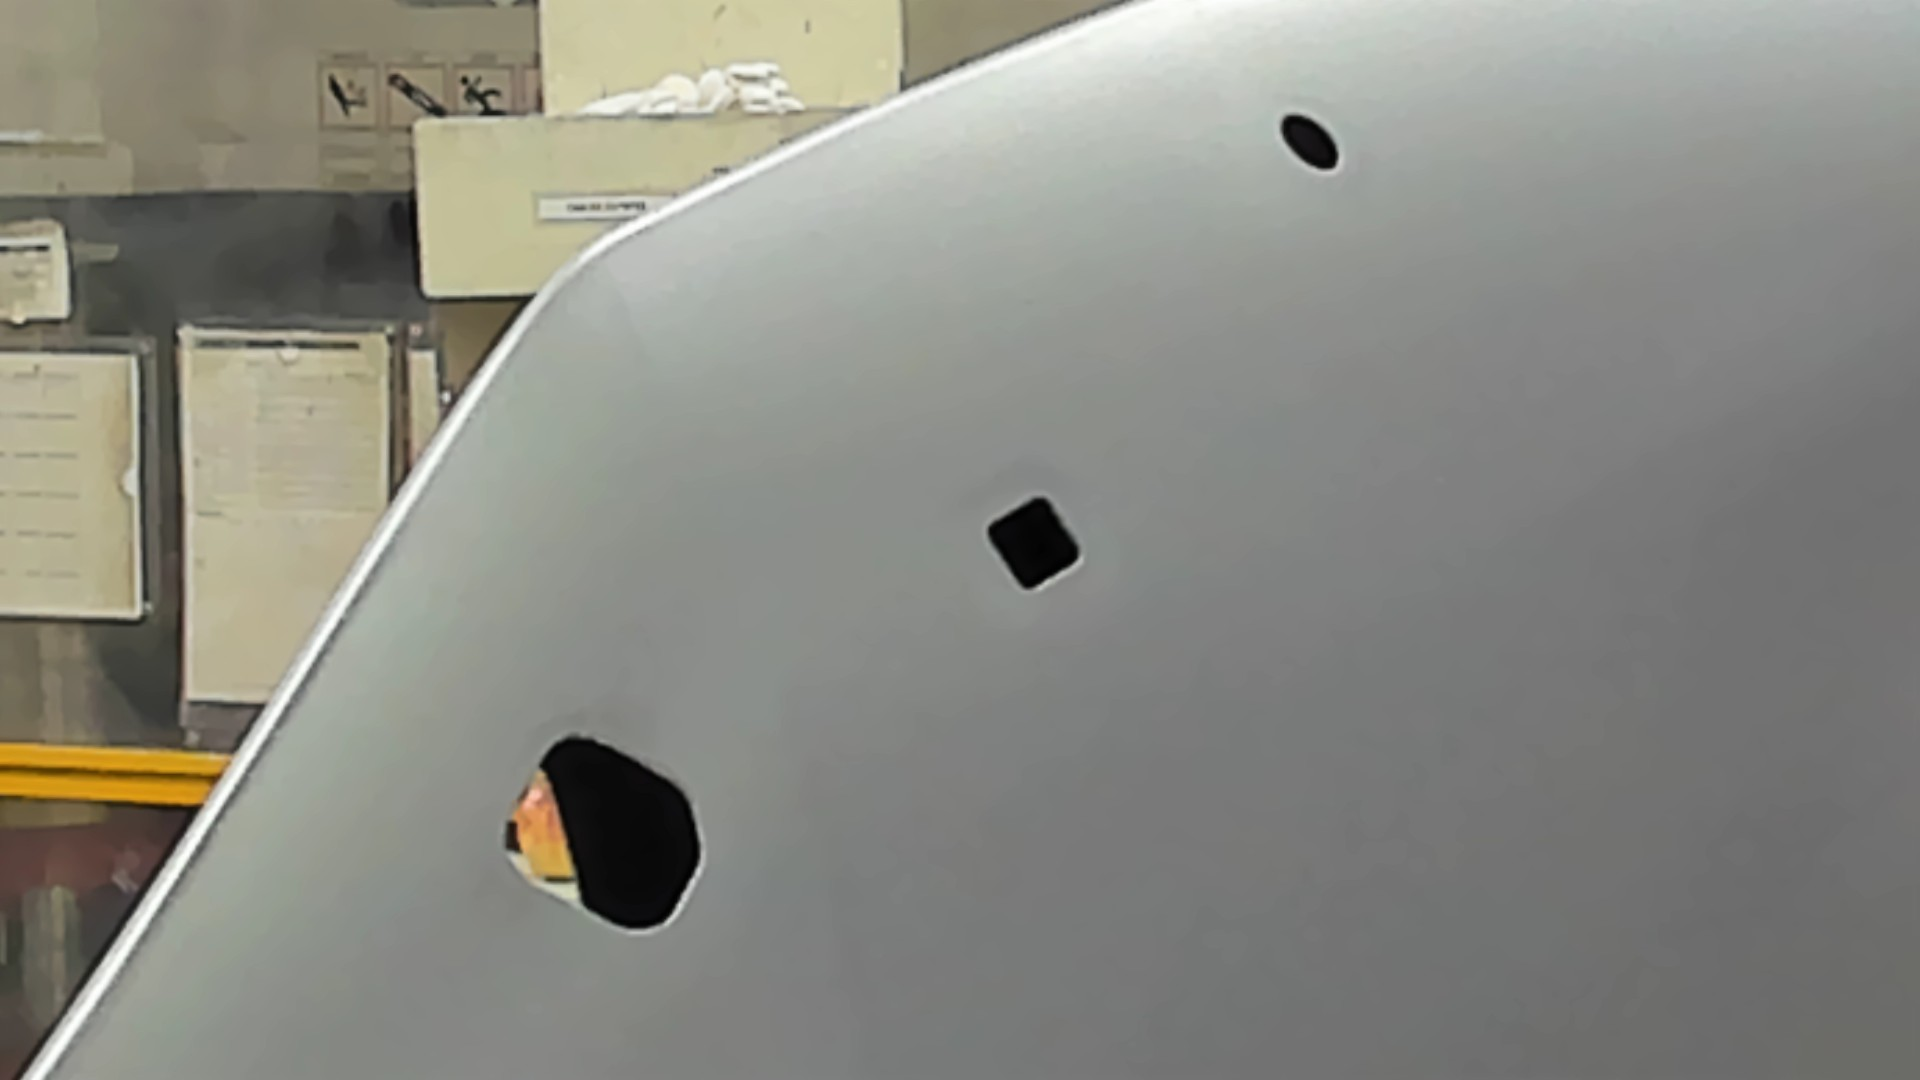capo: (1091, 175, 1920, 1080)
chico: (1274, 109, 1345, 174)
grande: (496, 729, 709, 944)
mediano: (977, 487, 1087, 601)
